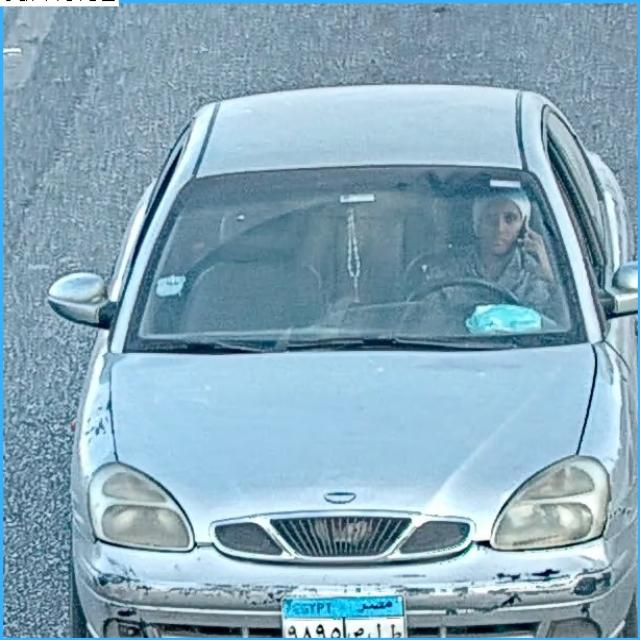windshield: (127, 178, 580, 341)
